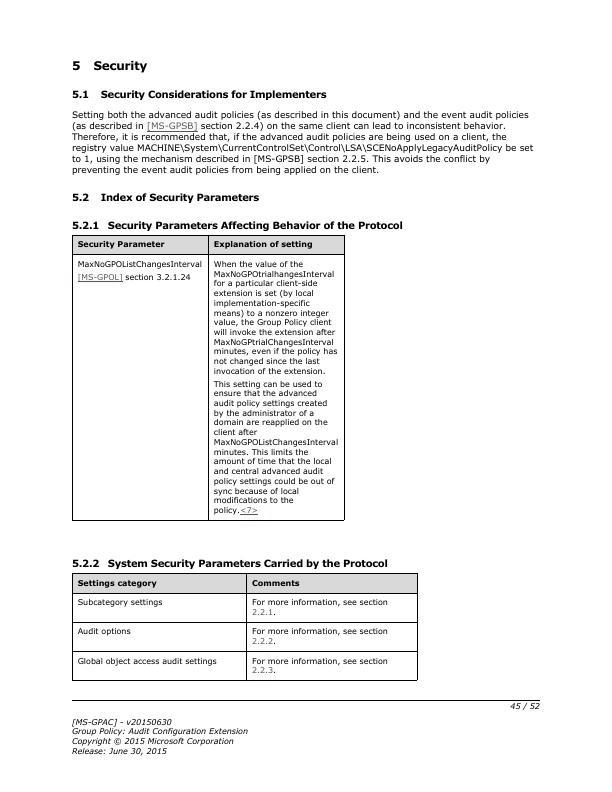table: (73, 234, 345, 520), (72, 574, 417, 682)
text: (69, 108, 536, 176), (67, 714, 253, 757), (72, 555, 393, 570), (69, 218, 408, 232), (69, 86, 330, 101), (69, 189, 264, 204), (67, 56, 149, 75)
